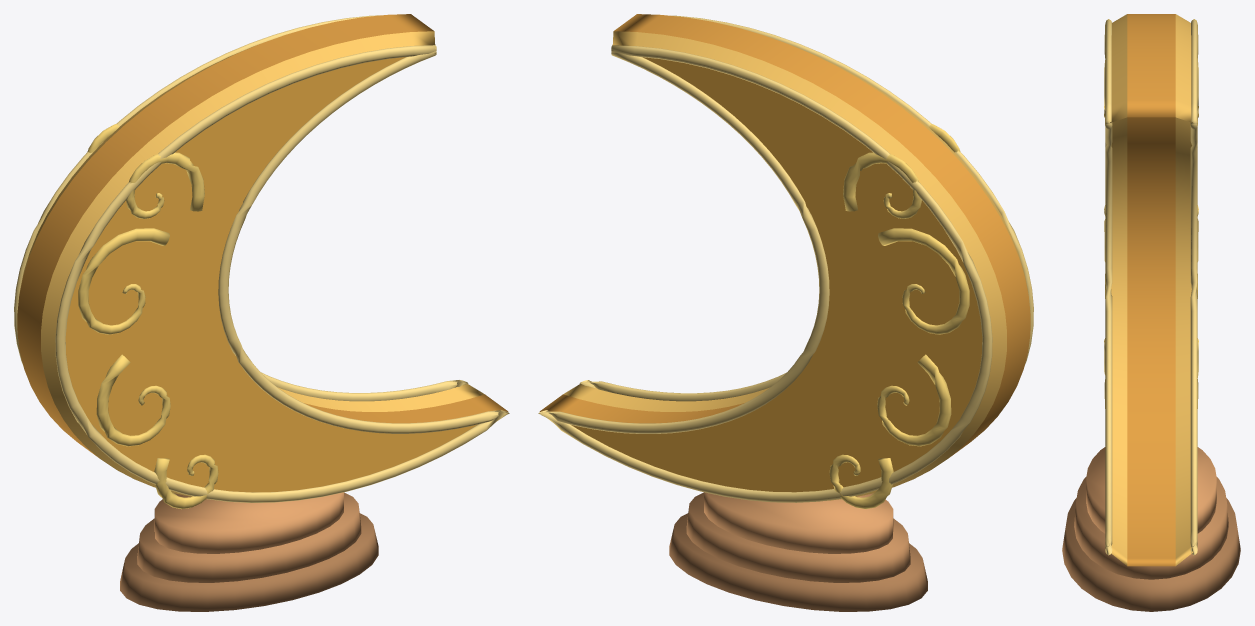
Rendered from crescent-DHZJYmNY.glb.
3 views of the same model, side by side, from view 1: azimuth 30°, elevation 25°; view 2: azimuth 150°, elevation 25°; view 3: azimuth 270°, elevation 25° (orthographic). The views are drawn at different scales.
Visible parts, largest first — view 1: crescent; view 2: crescent; view 3: crescent.
Boxes of the visible parts, x1,y1,x2,y2 form: crescent: [14, 14, 509, 611]; crescent: [538, 14, 1033, 611]; crescent: [1062, 14, 1240, 611].
Size of the model in its own units: 3.9 by 4.1 by 1.25.
